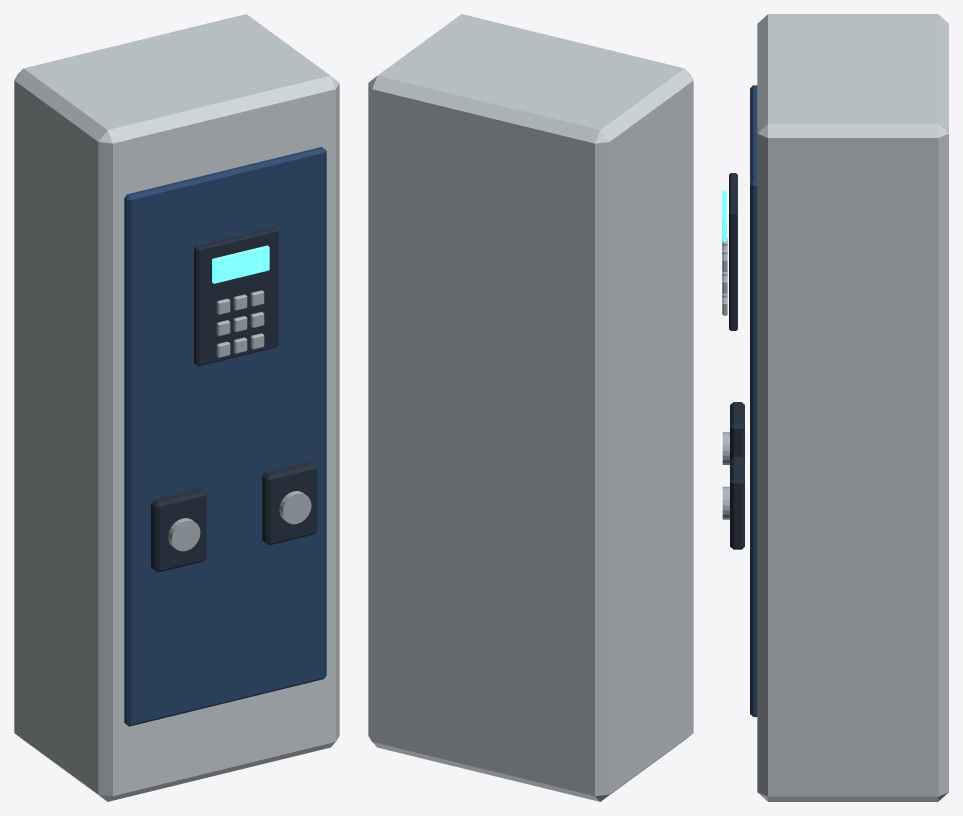
The model's file is utility_12.glb.
The picture shows the model from 3 angles, left to right: view 1: azimuth 30°, elevation 25°; view 2: azimuth 150°, elevation 25°; view 3: azimuth 270°, elevation 25°; orthographic projection.
Visible parts, largest first — view 1: ChargingBody, ChargingFront, KeypadPanel, Socket (×2), SocketHole (×2), TinyScreen; view 2: ChargingBody; view 3: ChargingBody, ChargingFront, Socket (×2), KeypadPanel.
Boxes of the visible parts, x1,y1,x2,y2 form: ChargingBody: [14, 14, 339, 801]; ChargingFront: [124, 147, 326, 726]; KeypadPanel: [194, 227, 278, 366]; Socket (×2): [151, 461, 317, 572]; SocketHole (×2): [168, 491, 311, 551]; TinyScreen: [212, 245, 269, 283]; ChargingBody: [368, 14, 693, 801]; ChargingBody: [757, 14, 948, 801]; ChargingFront: [750, 85, 757, 716]; Socket (×2): [730, 402, 744, 549]; KeypadPanel: [729, 173, 737, 330].
Size of the model in its own units: 0.47 by 1.25 by 0.379.
